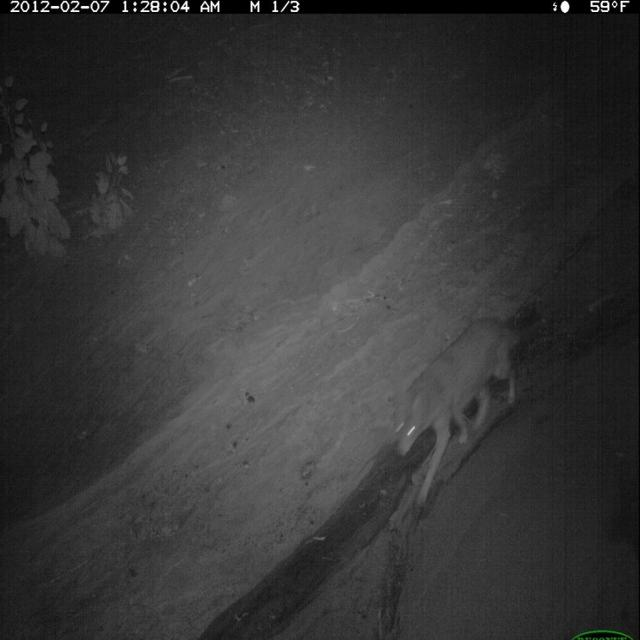coyote: (387, 308, 551, 515)
